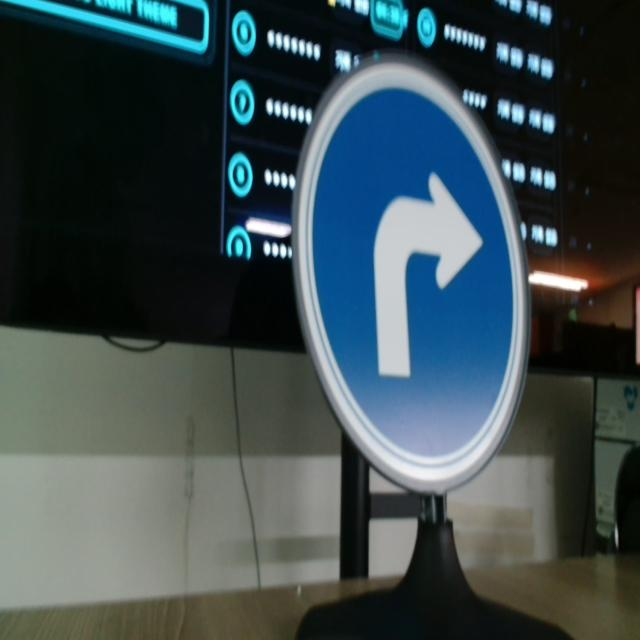right_dierection: (293, 51, 537, 497)
